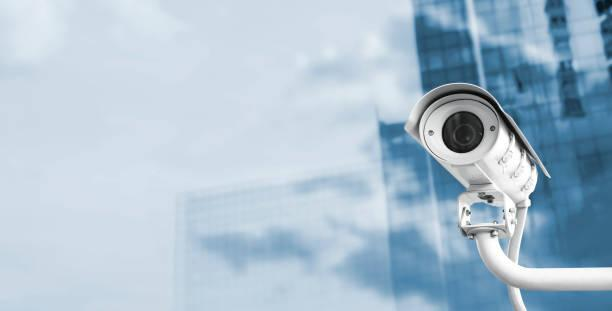camera: (385, 71, 555, 240)
